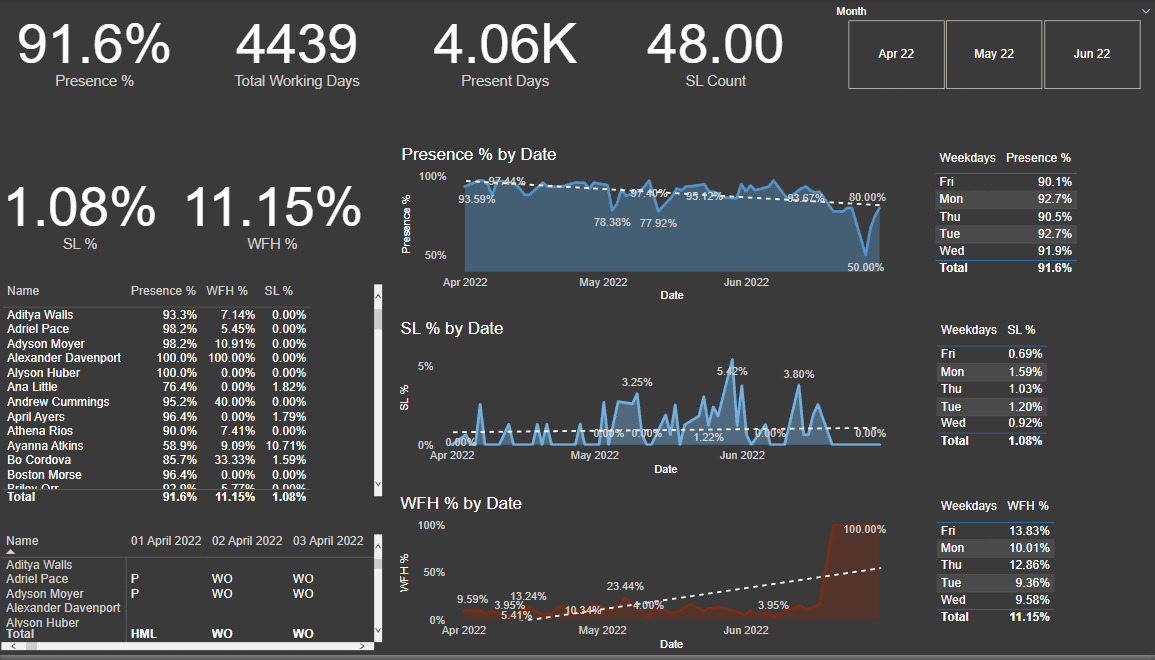

What the dashboard file says about the page in this screenshot:
{"tool":"powerbi","page":{"name":"Page 1","canvas":[1280,720],"ordinal":0},"visuals":[{"type":"card","fields":{"Values":["Measure.Total Working Days"]},"box":[228,0,203.3,104.4],"z":0},{"type":"card","fields":{"Values":["Measure.Present Days"]},"box":[456,0,204.6,104.4],"z":1000},{"type":"slicer","fields":{"Values":["Final Data.Month"]},"box":[909.2,0,370.8,104.4],"z":2000},{"type":"card","fields":{"Values":["Measure.WFH %"]},"box":[197.8,177.2,210.1,108.5],"z":3000},{"type":"card","fields":{"Values":["Measure.SL Count"]},"box":[690.8,0,197.8,104.4],"z":4000},{"type":"card","fields":{"Values":["Measure.SL %"]},"box":[0,177.2,182.7,108.5],"z":5000},{"type":"tableEx","fields":{"Values":["Final Data.Name","Measure.Presence %","Measure.WFH %","Measure.SL %"]},"box":[0,307.6,428.5,281.5],"z":6000},{"type":"pivotTable","fields":{"Rows":["Final Data.Name"],"Values":["Min(Final Data.Value)"],"Columns":["Final Data.Date"]},"box":[0,607,428.5,112.6],"z":7000},{"type":"areaChart","fields":{"Category":["Final Data.Date"],"Y":["Measure.SL %"]},"box":[438.1,350.2,561.7,177.2],"z":8000},{"type":"areaChart","fields":{"Category":["Final Data.Date"],"Y":["Measure.Presence %"]},"box":[439.5,159.3,560.3,177.2],"z":9000},{"type":"areaChart","fields":{"Category":["Final Data.Date"],"Y":["Measure.WFH %"]},"box":[438.1,542.5,561.7,177.2],"z":10000},{"type":"card","fields":{"Values":["Measure.Presence %"]},"box":[0,0,214.2,104.4],"z":11000},{"type":"tableEx","fields":{"Values":["Final Data.Weekdays","Measure.Presence %"]},"box":[1024.5,159.3,215.6,177.2],"z":12000},{"type":"tableEx","fields":{"Values":["Final Data.Weekdays","Measure.SL %"]},"box":[1025.9,348.8,215.6,177.2],"z":13000},{"type":"tableEx","fields":{"Values":["Final Data.Weekdays","Measure.WFH %"]},"box":[1025.9,542.5,215.6,177.2],"z":14000}]}

Visuals, with their boxes in screenshot pixels (x1, y1, x2, y2), scaled from the page's 1280x720 canvas onto the 1155x660 screenshot:
card - Measure.Total Working Days: 206,0,389,96
card - Measure.Present Days: 411,0,596,96
slicer - Final Data.Month: 820,0,1154,96
card - Measure.WFH %: 178,162,368,262
card - Measure.SL Count: 623,0,802,96
card - Measure.SL %: 0,162,165,262
tableEx - Final Data.Name x Measure.Presence %: 0,282,387,540
pivotTable - Final Data.Name x Min(Final Data.Value): 0,556,387,659
areaChart - Final Data.Date x Measure.SL %: 395,321,902,483
areaChart - Final Data.Date x Measure.Presence %: 397,146,902,308
areaChart - Final Data.Date x Measure.WFH %: 395,497,902,659
card - Measure.Presence %: 0,0,193,96
tableEx - Final Data.Weekdays x Measure.Presence %: 924,146,1119,308
tableEx - Final Data.Weekdays x Measure.SL %: 926,320,1120,482
tableEx - Final Data.Weekdays x Measure.WFH %: 926,497,1120,659
